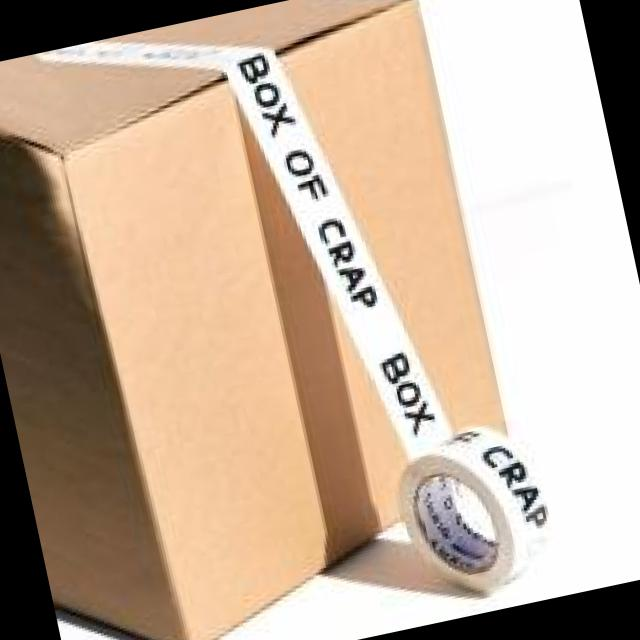box: (1, 1, 512, 629)
